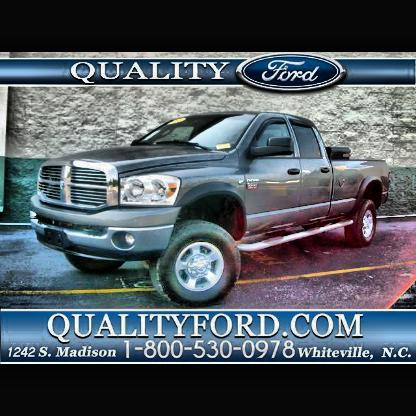Dodge Ram Pickup 3500 Quad Cab 2009: (32, 113, 390, 308)
